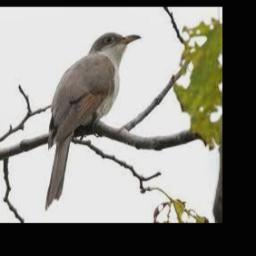Cuckoo: (45, 32, 142, 210)
